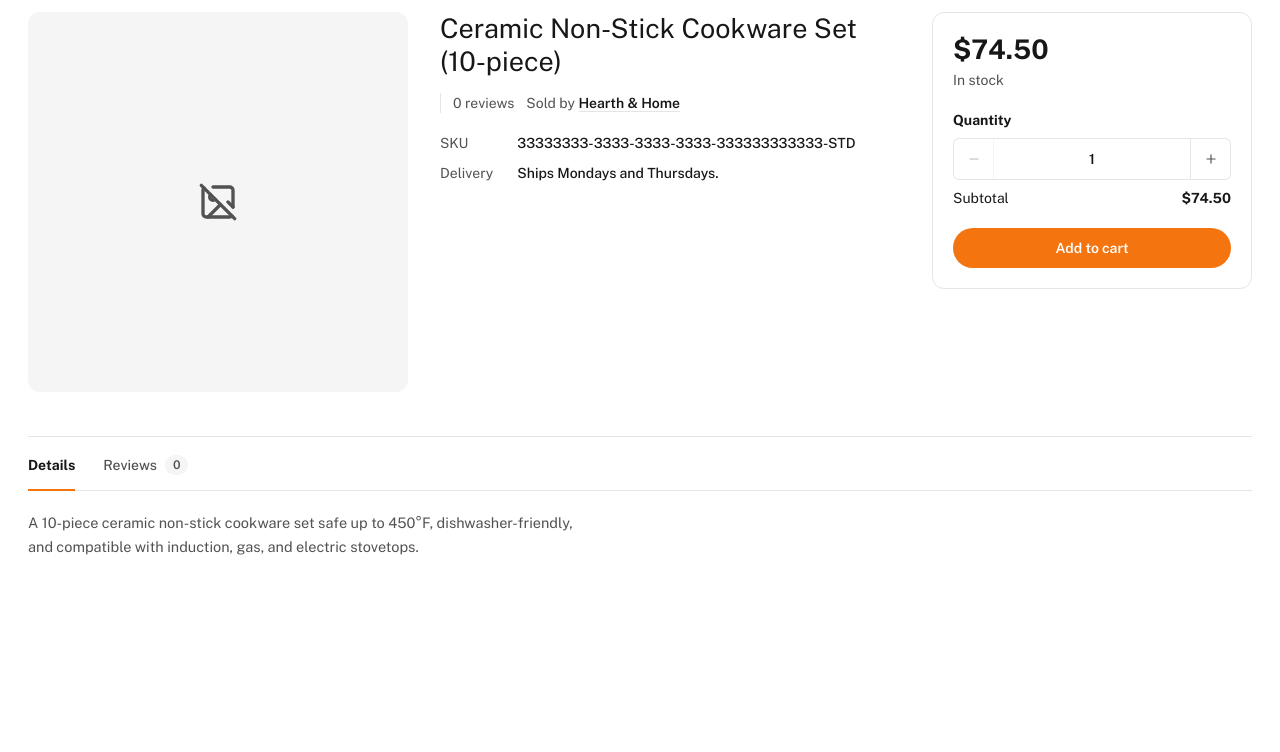
review flow › lets a buyer who bought it write a review, and shows it afterwards
Click the tab "Reviews 0" at {"x": 146, "y": 466}, box [103,441,188,491]
(page scrolled)
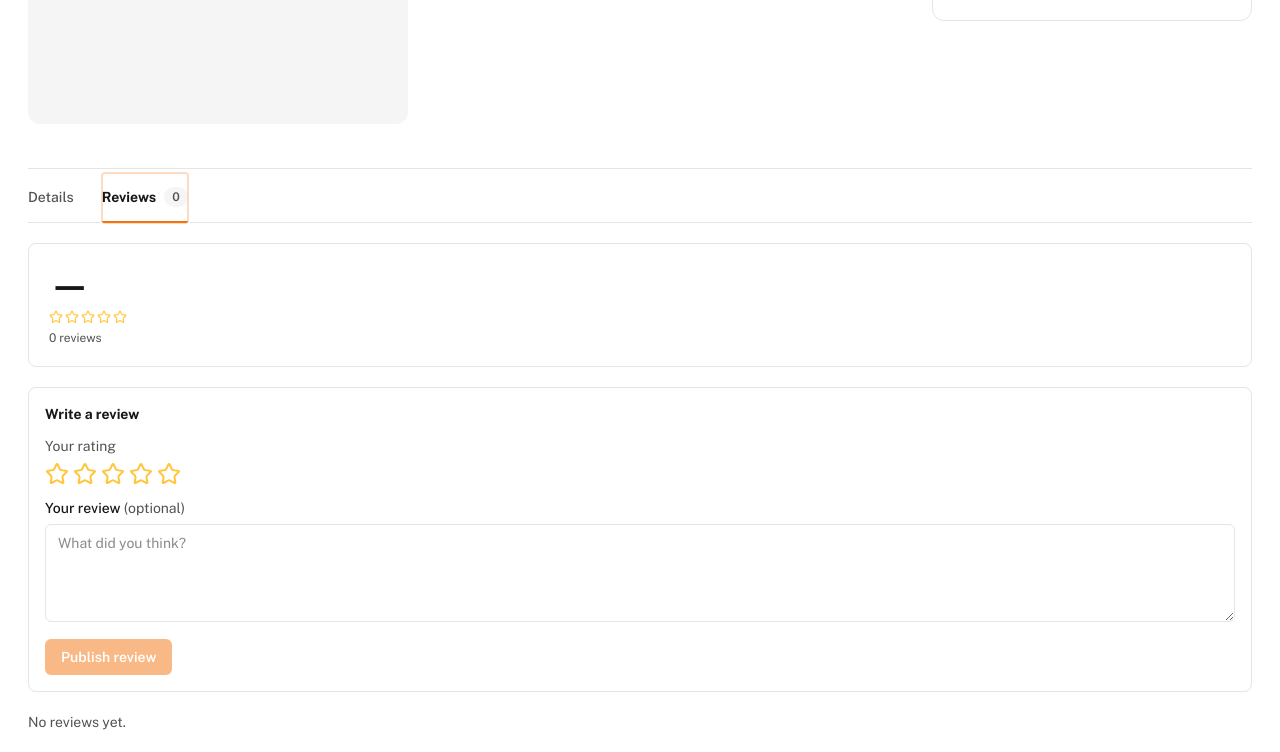
Click the radio button named "5 stars" at {"x": 169, "y": 474}, box [157,462,181,486]
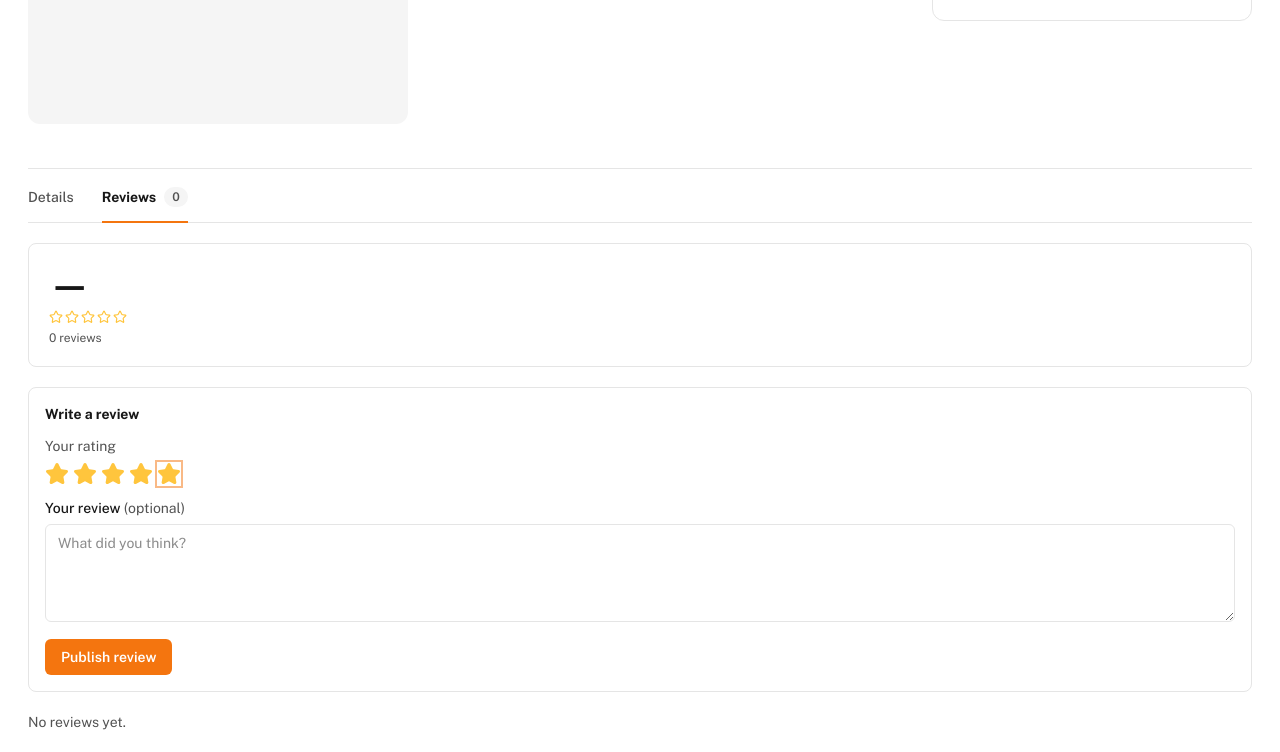
Type "Cooks beautifully." into the text box labelled "Your review (optional)" at {"x": 640, "y": 573}, box [45,524,1235,622]
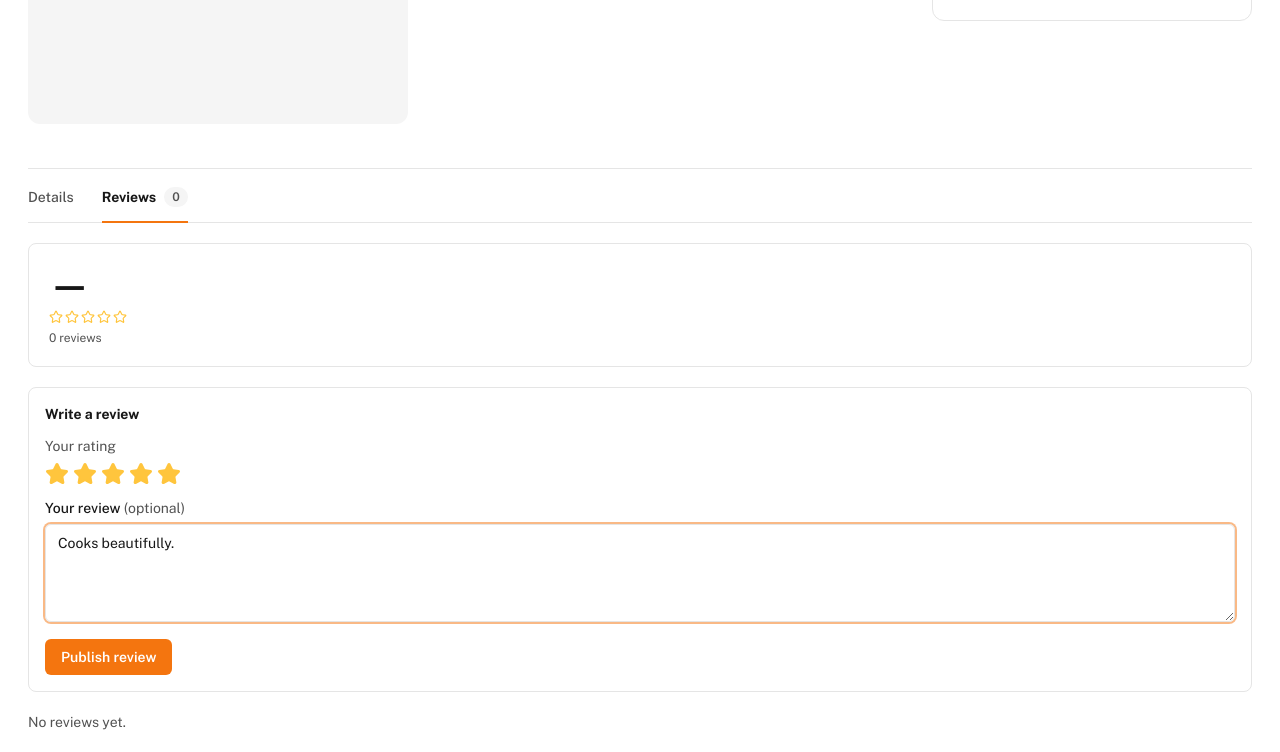
Click the button "Publish review" at {"x": 109, "y": 657}, box [45,639,172,675]
(page scrolled)
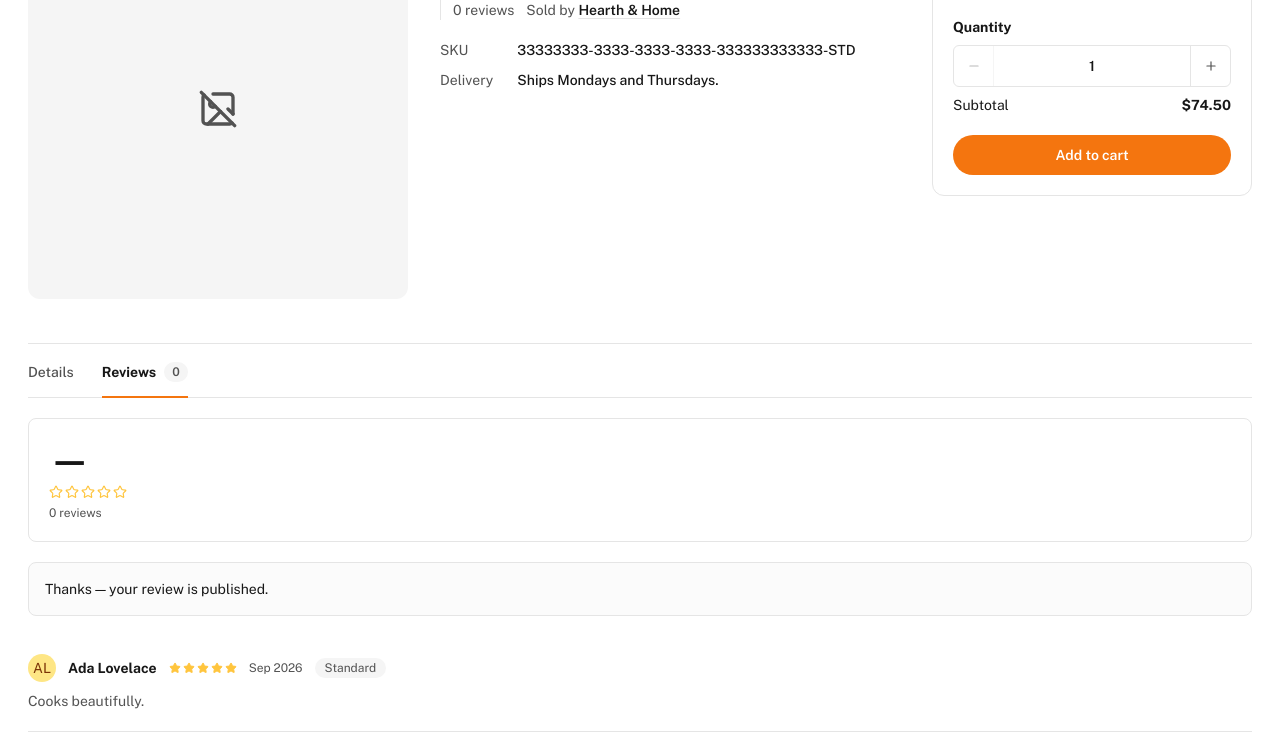
Result: the text "Thanks — your review is published." is shown at [28,562,1252,616]
Result: the text "Cooks beautifully." is shown at [28,693,144,709]
Result: the text "Ada Lovelace" is shown at [68,658,157,678]
